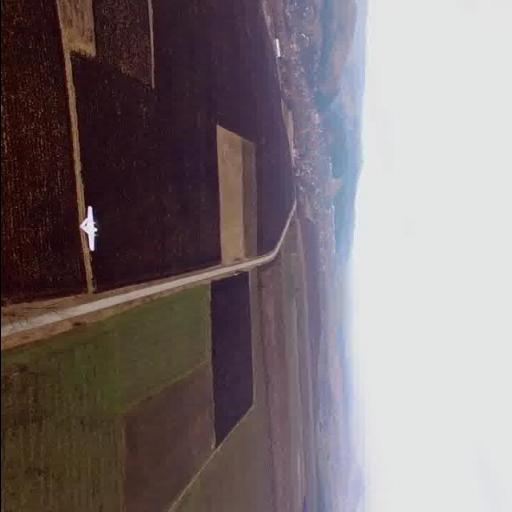uav: (72, 198, 108, 272)
